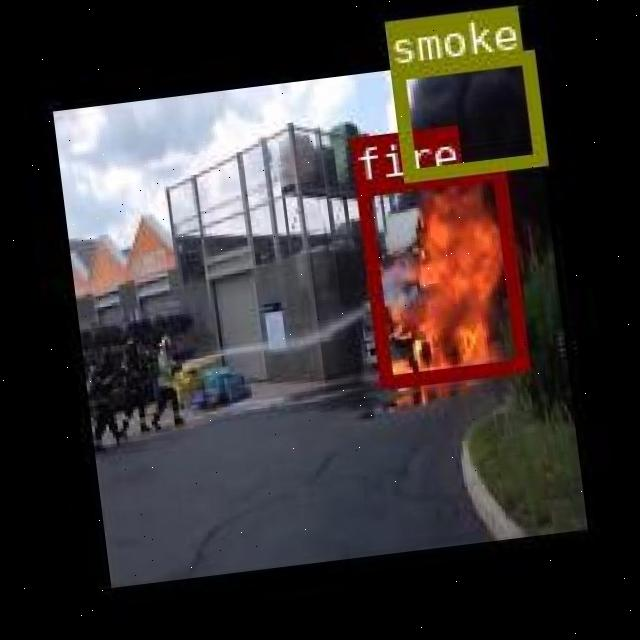fire: (354, 165, 526, 386)
smoke: (388, 50, 542, 178)
